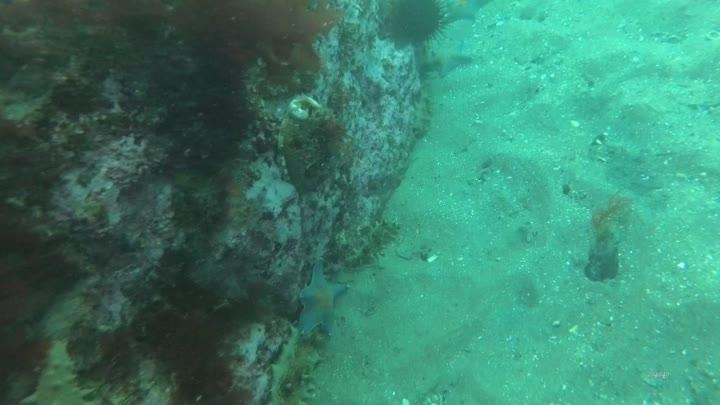echinus: (381, 1, 451, 50)
holothurian: (267, 325, 329, 404), (28, 335, 92, 404), (342, 213, 402, 271), (407, 82, 437, 143)
starfish: (292, 261, 352, 340), (420, 36, 475, 79), (436, 0, 490, 25)
